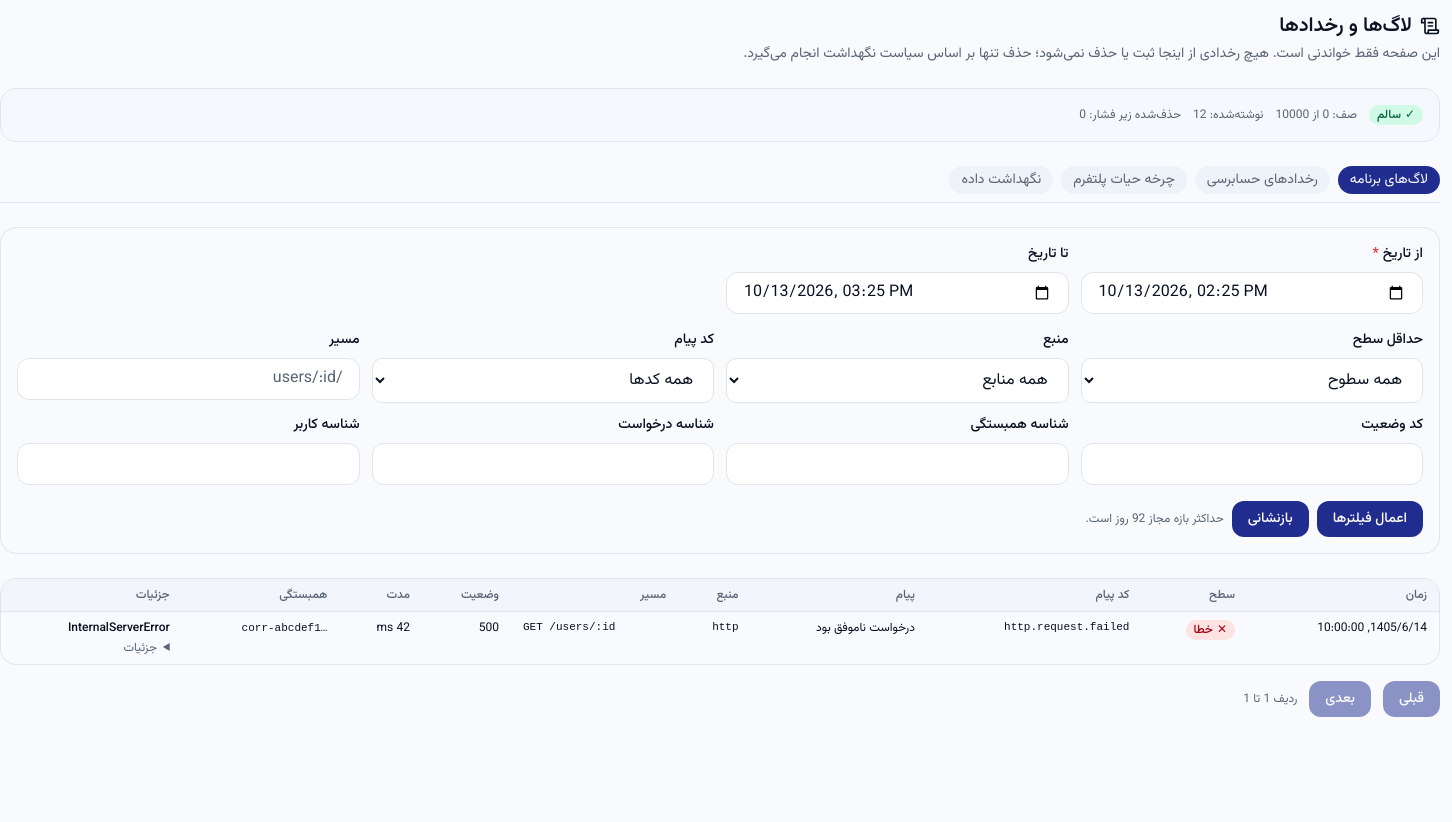
Test: CoreObservabilityView — presentation is never colour alone (§30) › renders the lifecycle phase as a word AND keeps the raw outcome code
Click the button "چرخه حیات پلتفرم" at coordinates (1124, 180), box [1061, 166, 1187, 194]
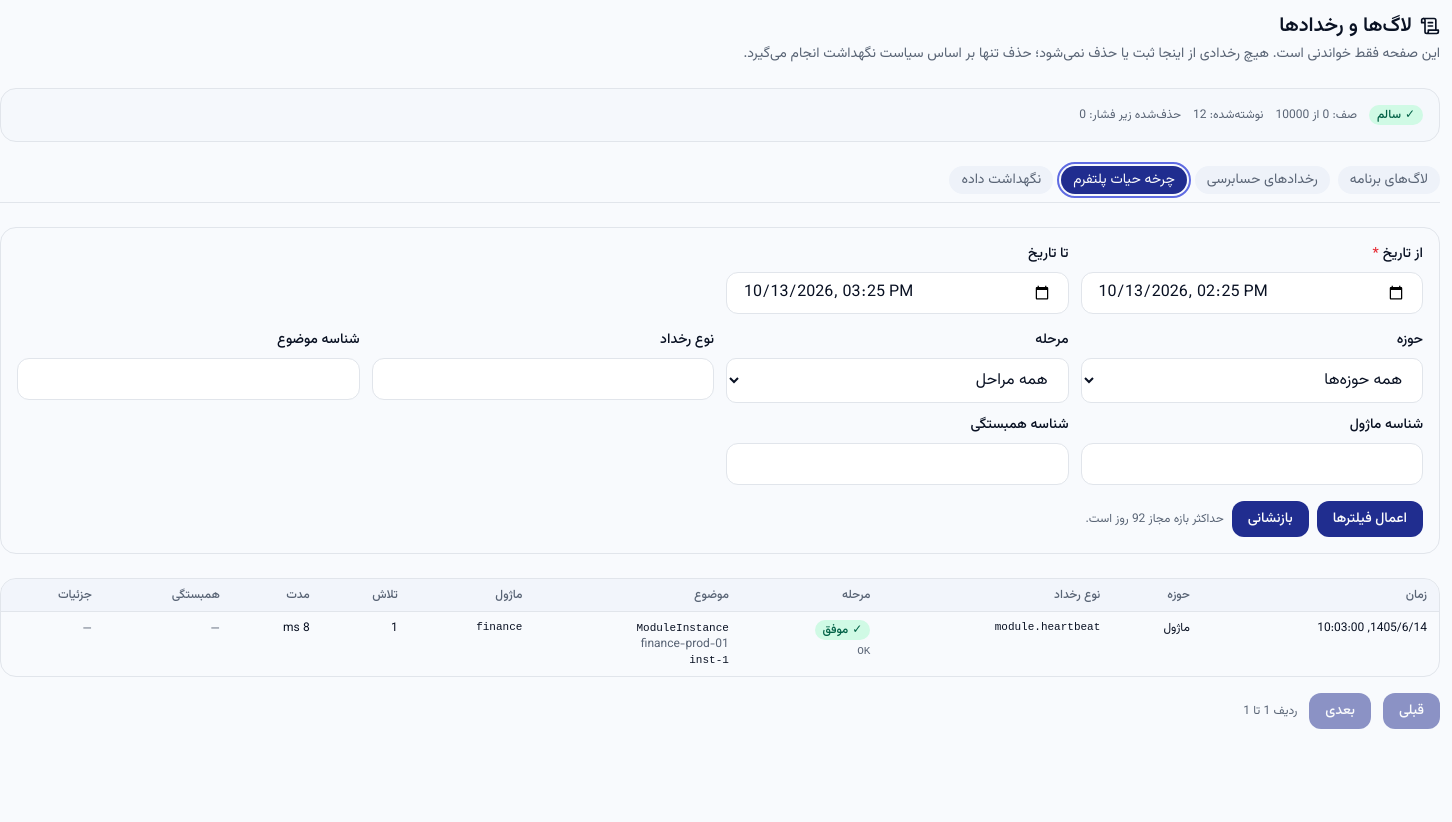
Now the text "موفق" is shown, box [823, 622, 848, 638]
Now the text "OK" is shown, box [857, 645, 870, 657]
